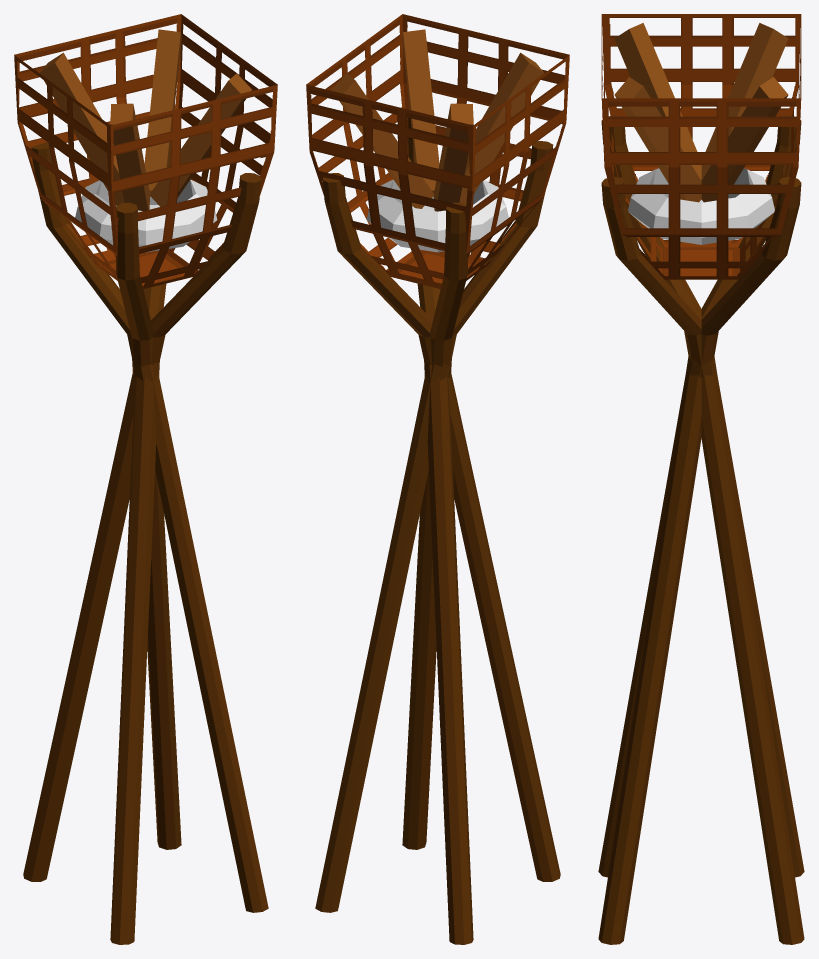
File: taimat.fbx
3 views of the same model, side by side, from view 1: azimuth 30°, elevation 25°; view 2: azimuth 150°, elevation 25°; view 3: azimuth 270°, elevation 25° (orthographic). The views are drawn at different scales.
Parts seen in each view (by area): view 1: 円柱, 立方体, 立方体.001, Torus; view 2: 円柱, 立方体, 立方体.001, Torus; view 3: 円柱, 立方体, 立方体.001, Torus.
Part boxes in pixels (x1,y1,x2,y2): 円柱: (23, 142, 268, 944); 立方体: (14, 14, 277, 288); 立方体.001: (40, 29, 251, 210); Torus: (75, 179, 217, 252); 円柱: (315, 118, 560, 944); 立方体: (306, 14, 569, 288); 立方体.001: (332, 29, 543, 211); Torus: (366, 179, 508, 252); 円柱: (598, 115, 804, 944); 立方体: (601, 14, 801, 279); 立方体.001: (614, 23, 788, 202); Torus: (628, 168, 774, 244).
Bounding box in the file's own units: 39.7 × 188 × 41.02.
Materials: 4 (1 with a texture image).
